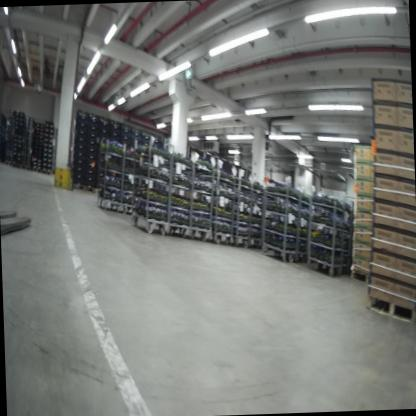pallet: (365, 286, 416, 326), (350, 268, 373, 289), (74, 180, 97, 194), (11, 161, 24, 169), (31, 166, 42, 175), (21, 163, 31, 171), (41, 169, 52, 175), (6, 160, 13, 168)
